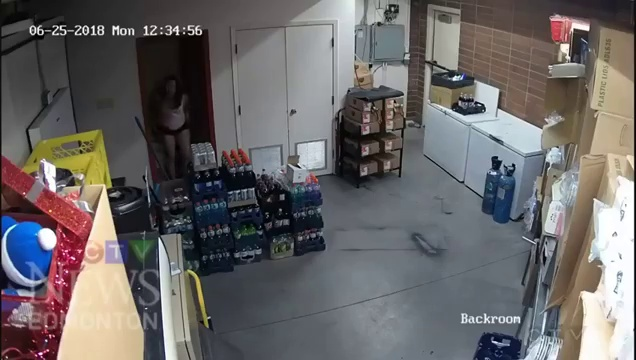face: (163, 81, 178, 95)
